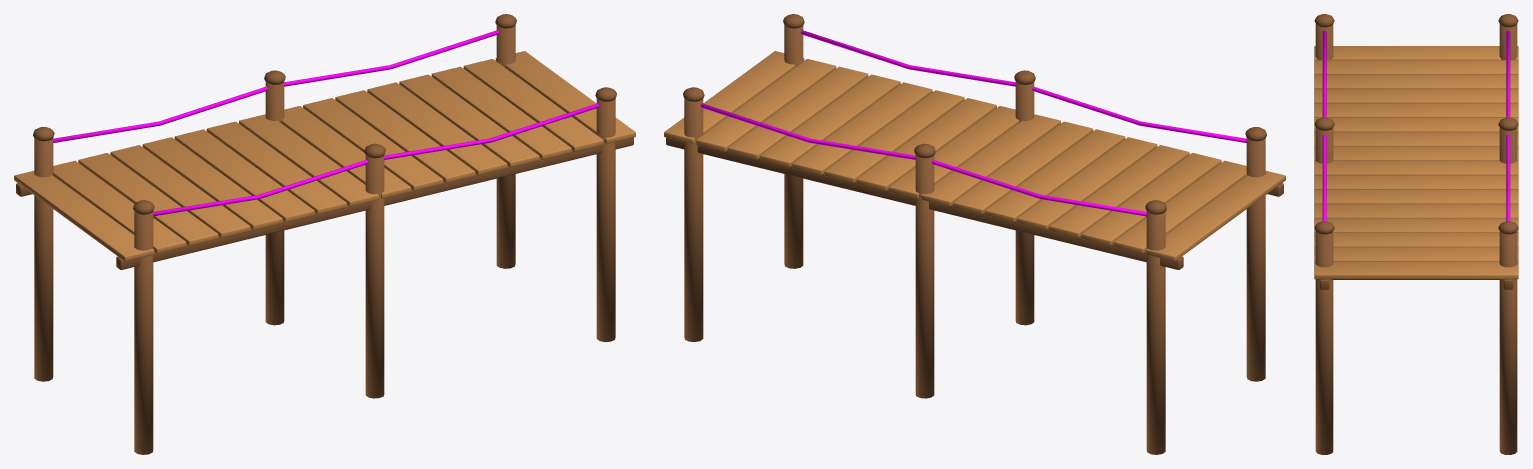
The model's file is pier_section.glb.
3 views of the same model, side by side, from view 1: azimuth 30°, elevation 25°; view 2: azimuth 150°, elevation 25°; view 3: azimuth 270°, elevation 25° (orthographic). The views are drawn at different scales.
Visible parts, largest first — view 1: pier_section; view 2: pier_section; view 3: pier_section.
Boxes of the visible parts, x1,y1,x2,y2 form: pier_section: (14, 14, 635, 454); pier_section: (664, 14, 1285, 454); pier_section: (1314, 14, 1518, 454).
Size of the model in its own units: 8 by 3.71 by 3.
